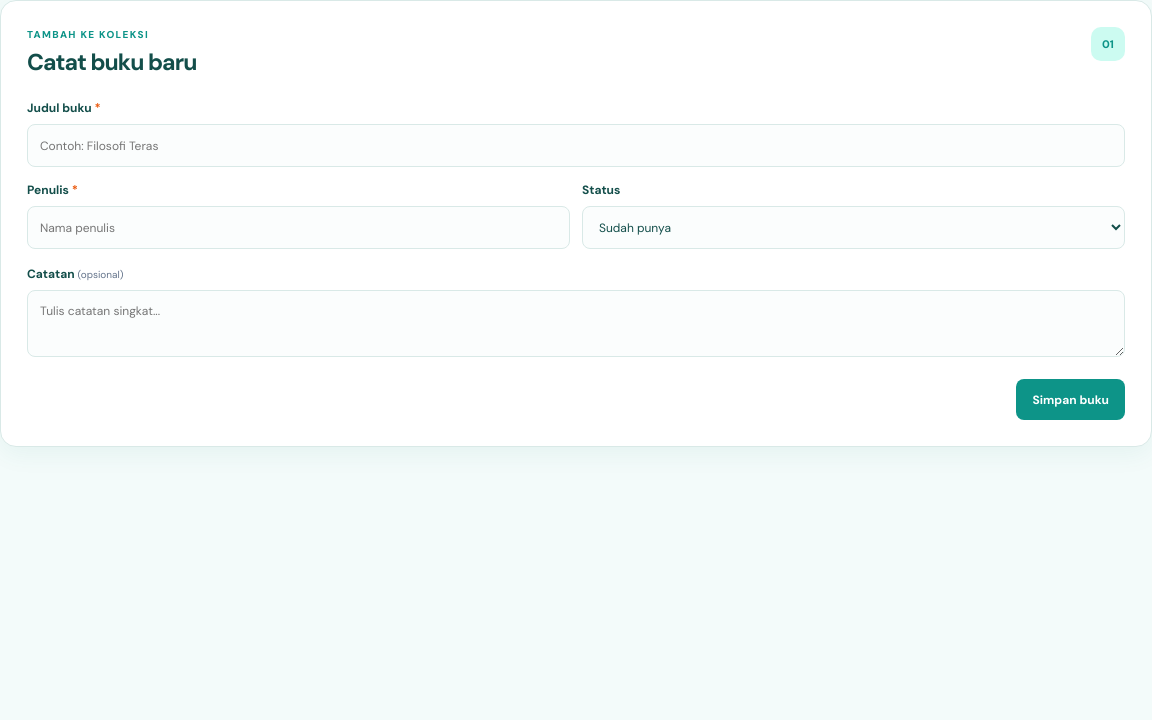
Test: BookForm › menampilkan error ketika judul dan penulis kosong
Click the button "Simpan buku": [1071, 400] box [1016,379,1125,420]
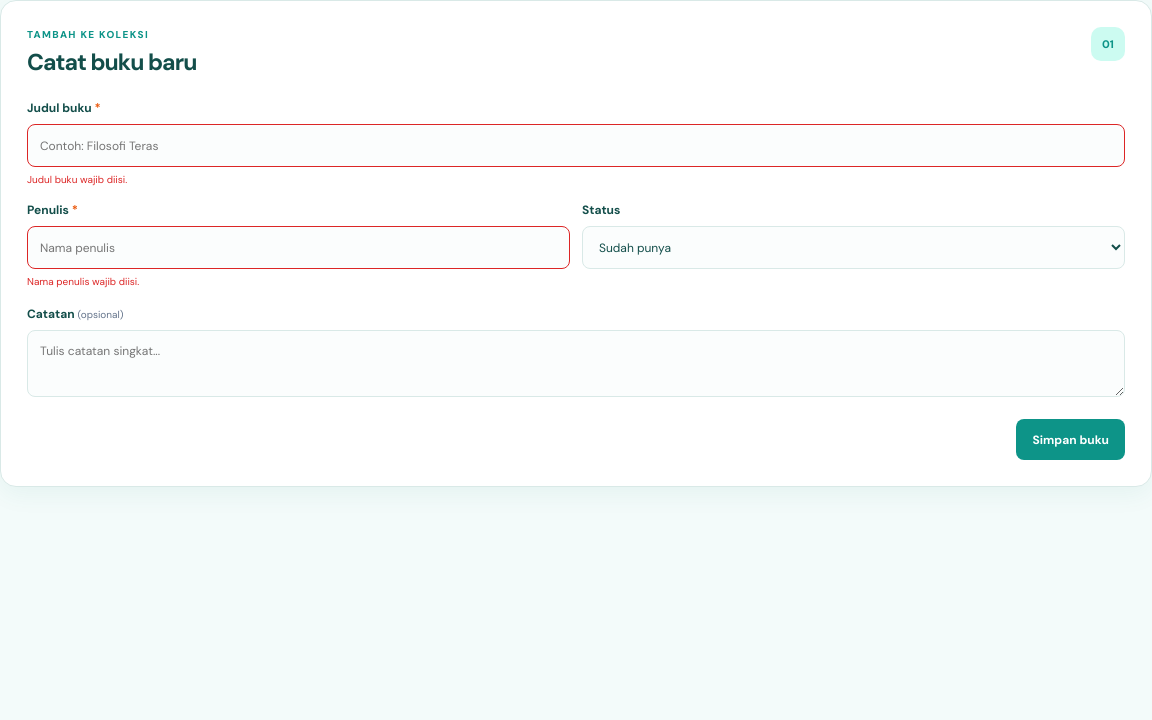
Expected: the text "Judul buku wajib diisi." is shown, [27,173,127,186]
Expected: the text "Nama penulis wajib diisi." is shown, [27,275,139,288]
